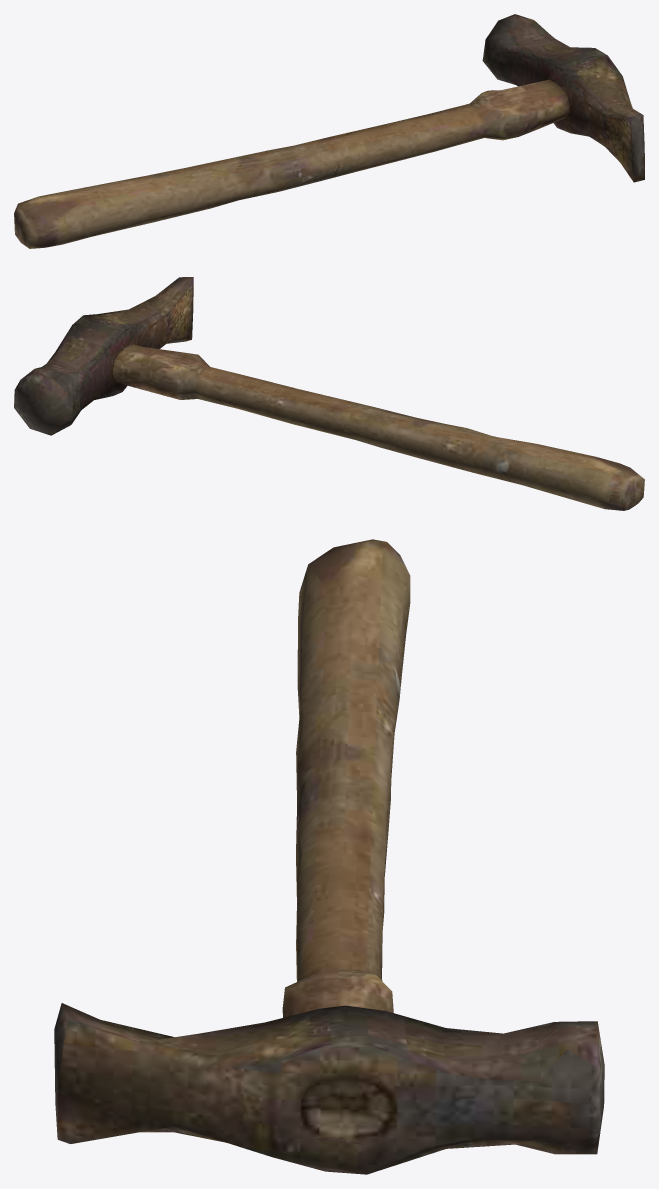
3 views of the same model, one above another, from view 1: azimuth 30°, elevation 25°; view 2: azimuth 150°, elevation 25°; view 3: azimuth 270°, elevation 25° (orthographic). The views are drawn at different scales.
Parts seen in each view (by area): view 1: hammer2_lod3; view 2: hammer2_lod3; view 3: hammer2_lod3.
Part boxes in pixels (x1,y1,x2,y2): hammer2_lod3: (14,14,644,248); hammer2_lod3: (14,277,644,510); hammer2_lod3: (54,539,604,1174).
Size of the model in its own units: 3.42 by 0.3752 by 1.44.
Materials: 1 (1 with a texture image).
